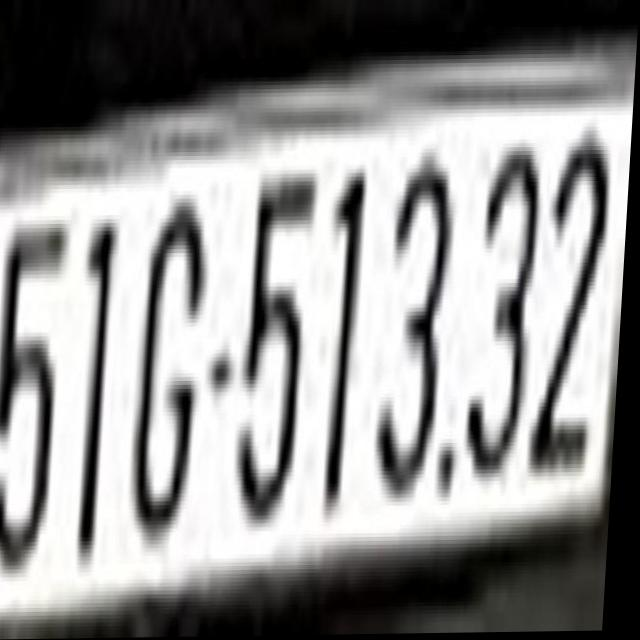1: (74, 204, 122, 557), (323, 163, 367, 516)
2: (531, 136, 619, 498)
3: (376, 158, 457, 519), (467, 133, 545, 491)
5: (235, 140, 322, 528), (0, 213, 70, 566)
G: (135, 179, 217, 541)
